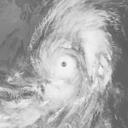cyclone: (46, 47, 84, 81)
